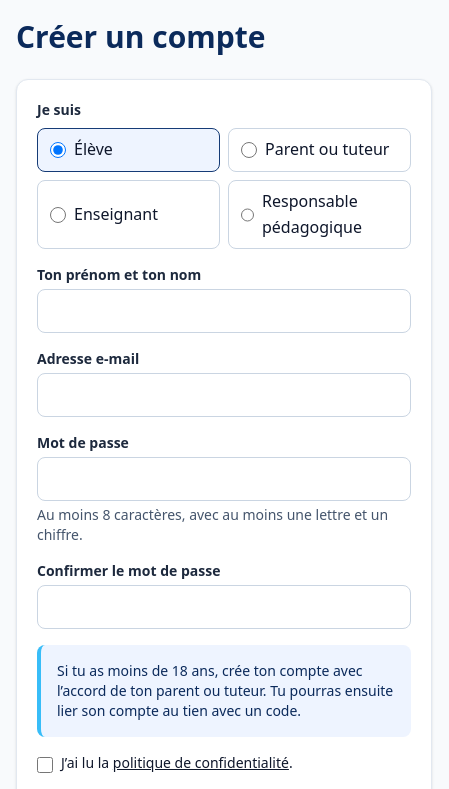
Scenario: formulaire d’inscription › signale des mots de passe différents et l’absence d’accord
In the field labelled "Ton prénom et ton nom": (224, 311) [37,289,411,333], type "Awa Konan"
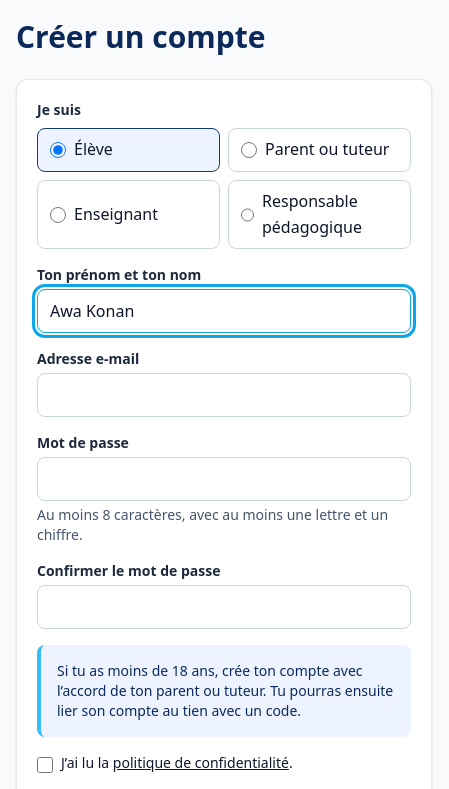
In the field labelled "Adresse e-mail": (224, 395) [37,373,411,417], type "awa@exemple.ci"
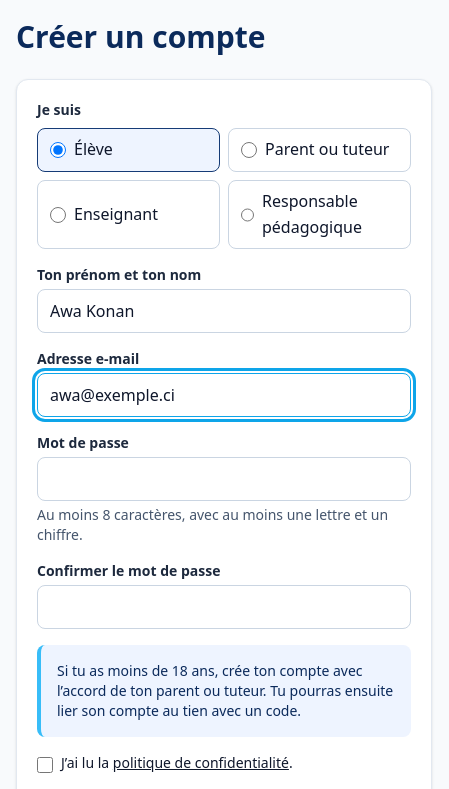
In the password field labelled "Mot de passe": (224, 479) [37,457,411,501], type "abidjan2026"
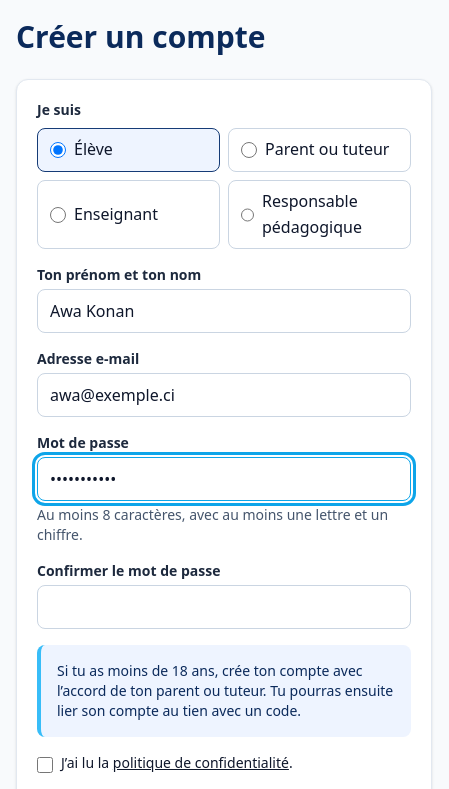
In the password field labelled "Confirmer le mot de passe": (224, 607) [37,585,411,629], type "abidjan2027"
(page scrolled)
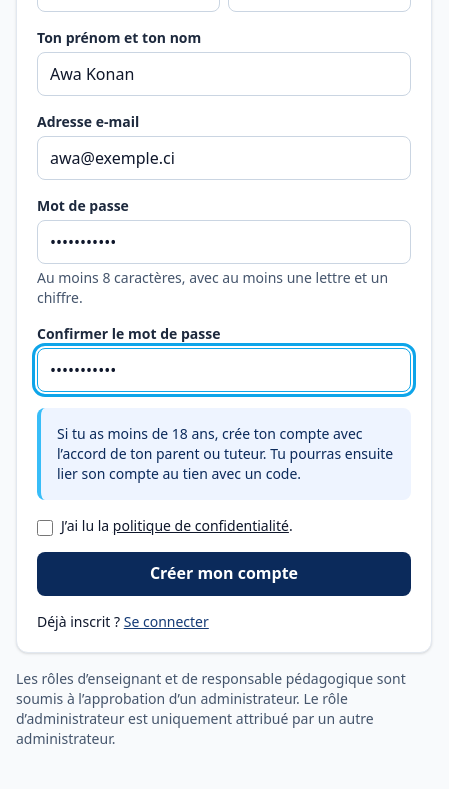
Click the button "Créer mon compte": (224, 574) [37,552,411,596]
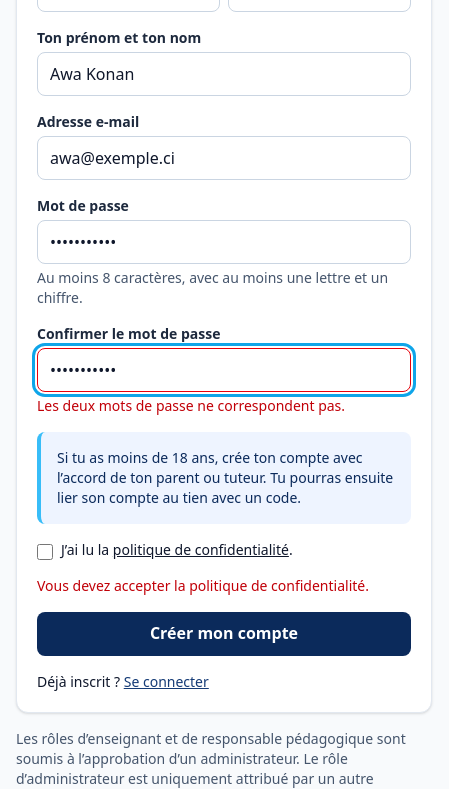
expect the text "Les deux mots de passe ne correspondent pas." is shown: met, box [37,396,345,415]
expect the text "Vous devez accepter la politique de confidentialité." is shown: met, box [37,576,411,596]
